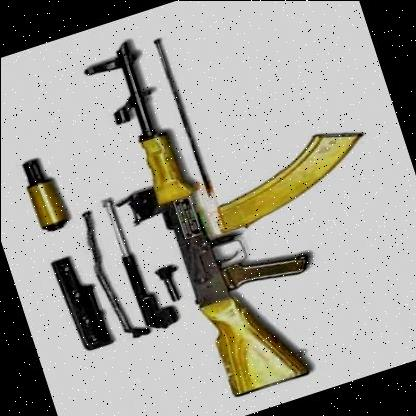rifle: (72, 0, 416, 416)
